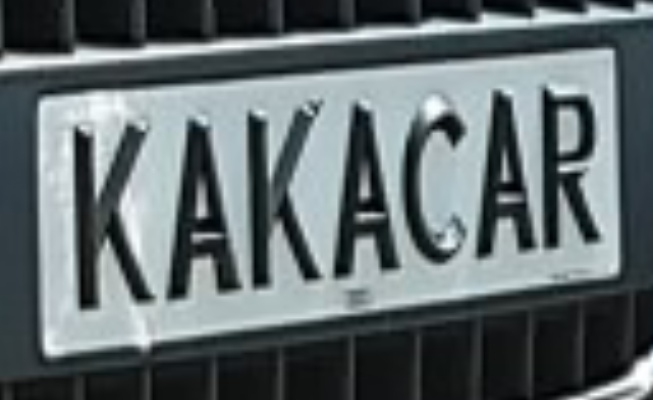A: (154, 91, 253, 318), (331, 88, 401, 291), (475, 72, 541, 281)
C: (398, 76, 468, 284)
K: (68, 102, 154, 334), (238, 94, 330, 300)
R: (535, 65, 604, 276)
